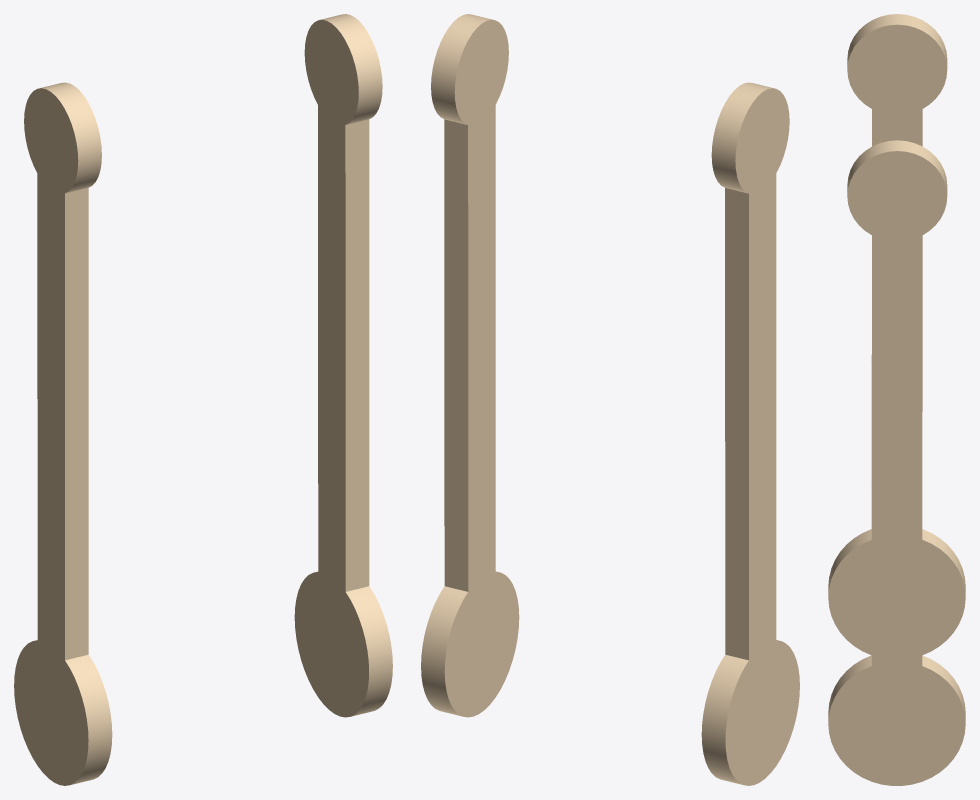
File: arm.dae
The picture shows the model from 3 angles, left to right: view 1: azimuth 30°, elevation 25°; view 2: azimuth 150°, elevation 25°; view 3: azimuth 270°, elevation 25°; orthographic projection. The views are drawn at different scales.
Visible parts, largest first — view 1: Arm; view 2: Arm; view 3: Arm.
Boxes of the visible parts, <box> form: Arm: <box>14,14,392,785</box>; Arm: <box>421,14,799,785</box>; Arm: <box>828,14,965,785</box>.
Size of the model in its own units: 0.3254 by 0.1379 by 0.7031.
